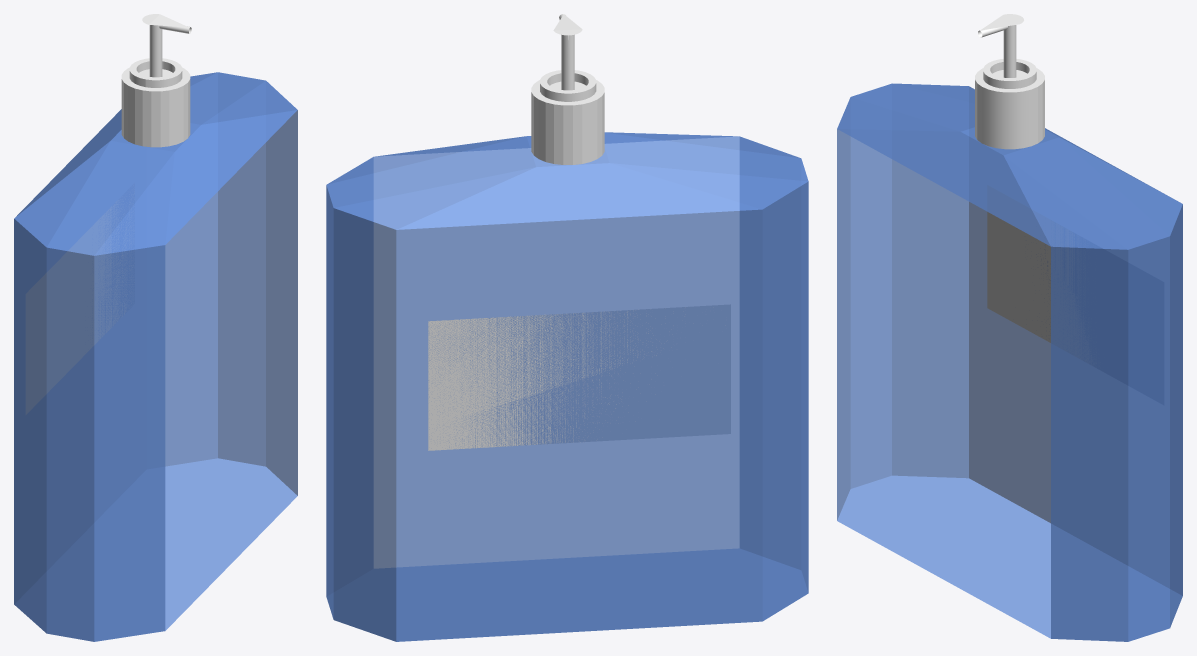
The model's file is hand sanitizer.dae.
3 views of the same model, side by side, from view 1: azimuth 30°, elevation 25°; view 2: azimuth 150°, elevation 25°; view 3: azimuth 270°, elevation 25° (orthographic). The views are drawn at different scales.
Visible parts, largest first — view 1: Component (×3), image_0; view 2: Component (×3), image_0; view 3: Component (×3), image_0.
Boxes of the visible parts, x1,y1,x2,y2 form: Component (×3): (14,25,297,641); image_0: (26,200,132,414); Component (×3): (326,34,808,641); image_0: (428,304,730,450); Component (×3): (837,25,1182,641); image_0: (987,185,1093,363).
Bounding box in the file's own units: 88.03 × 77.34 × 133.
